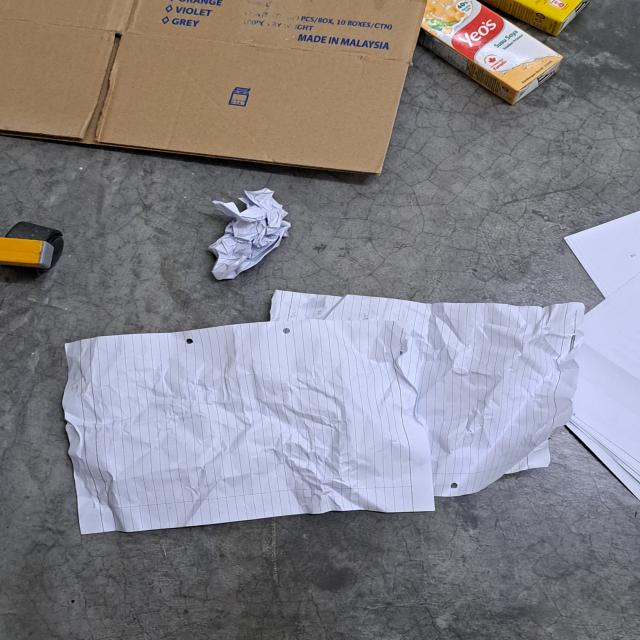cardboard: (0, 0, 424, 175)
drink carton: (420, 0, 562, 103), (486, 0, 591, 33)
paper: (65, 291, 640, 531), (206, 187, 290, 284), (561, 202, 640, 290)
